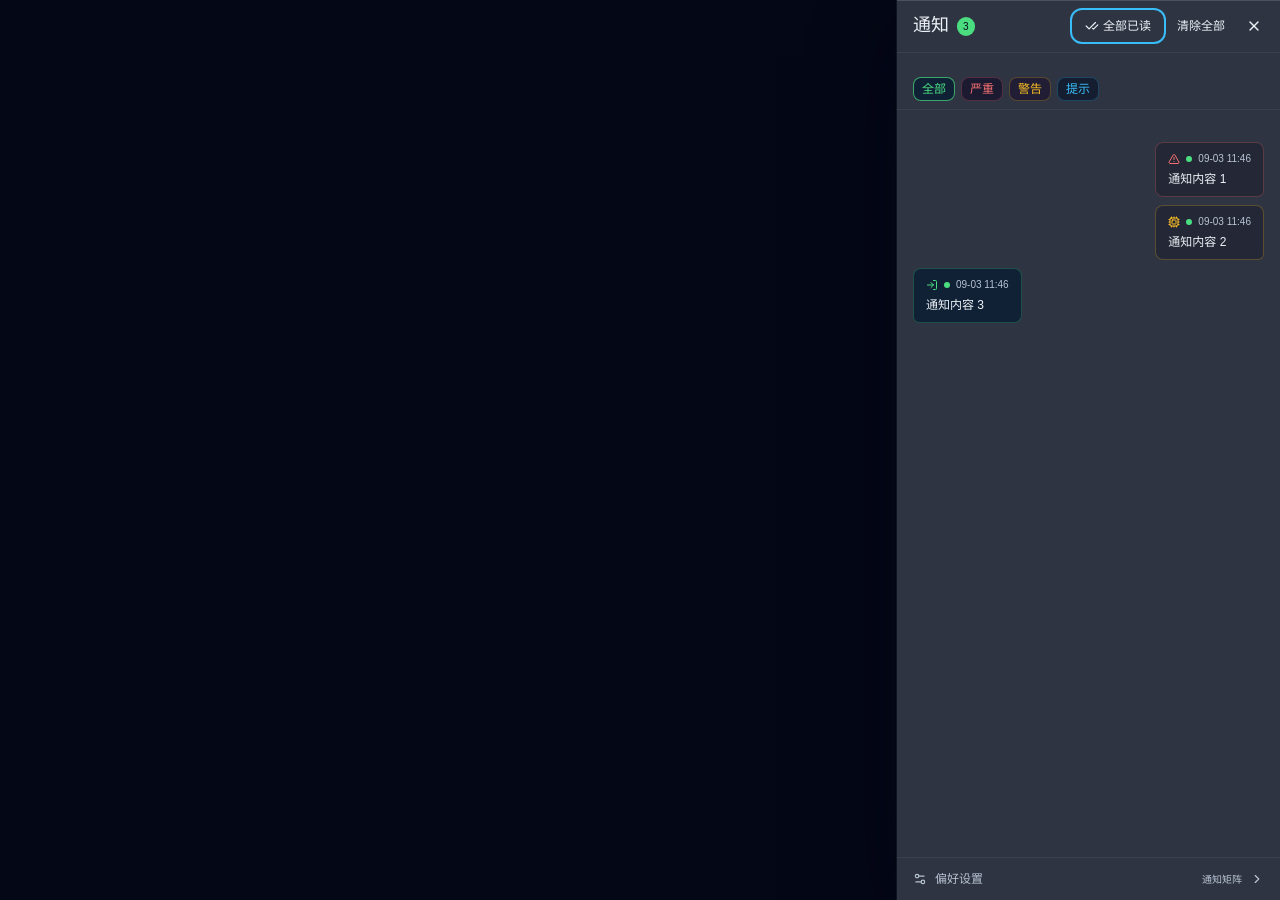
it: NotificationDrawer severity 筛选 › 点「严重」chip：列表只剩 severe 类型（崩溃/熔断等）
Step 1. Click the radio button with aria-label "严重通知" → point(982, 89), box [961,77,1003,101]
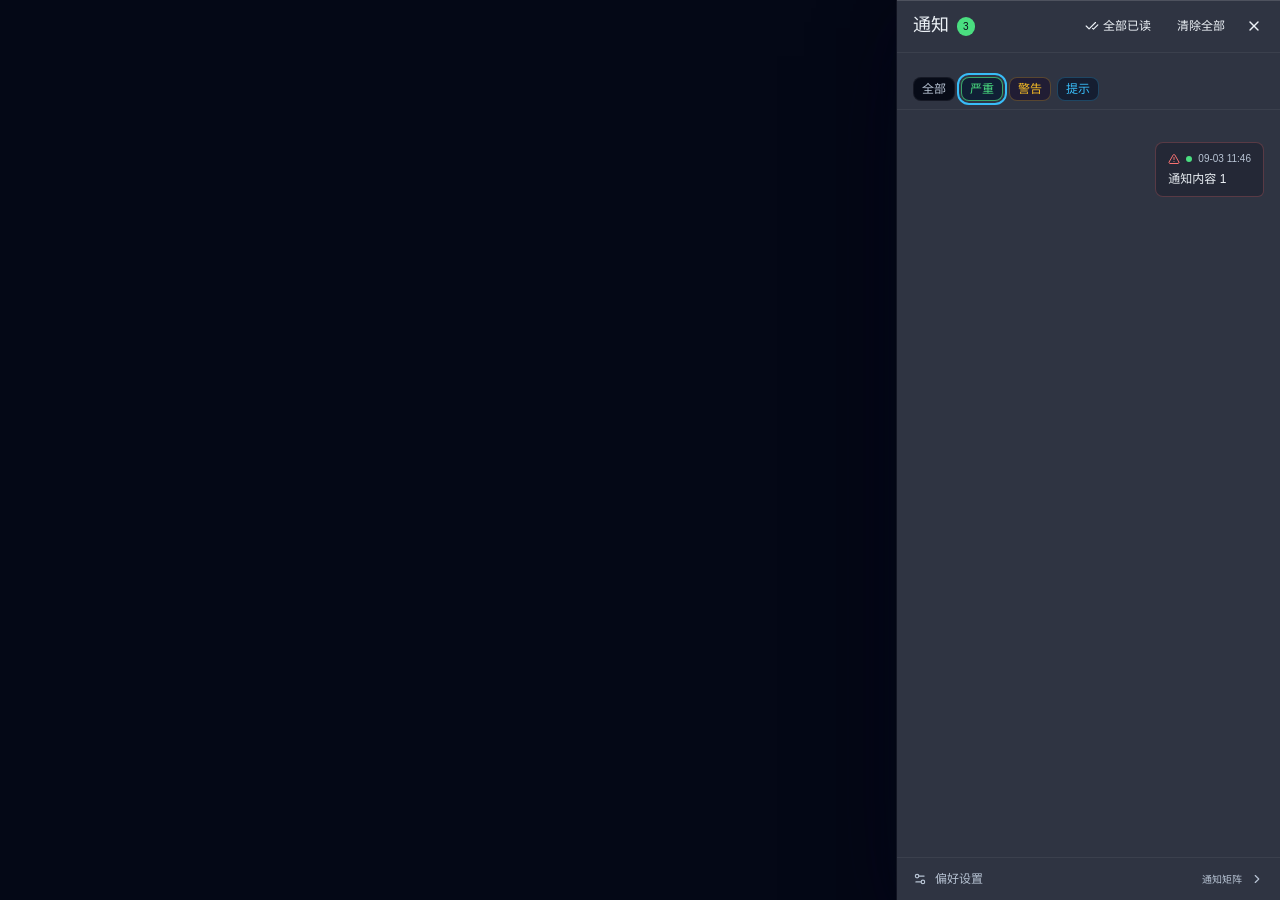
Check: the text "通知内容 1" is shown, box [1168,172,1226,186]
Check: the button "通知内容 2" is gone
Check: the button "通知内容 3" is gone
